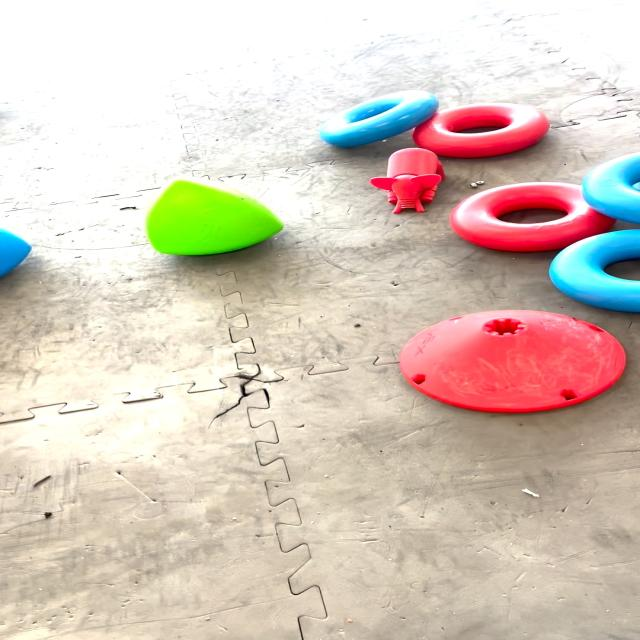Blue-Ring: (549, 230, 639, 312), (320, 90, 438, 148), (581, 150, 640, 223)
Red-Ring: (449, 182, 616, 251), (413, 102, 549, 158)
